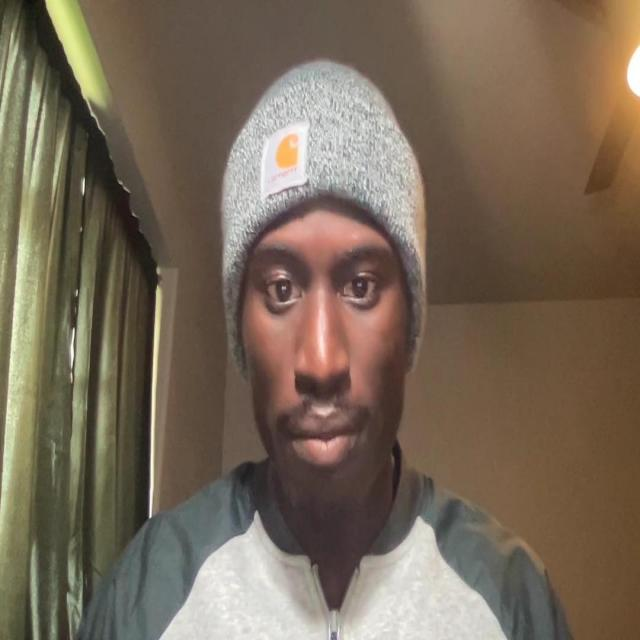face: (221, 117, 427, 514)
